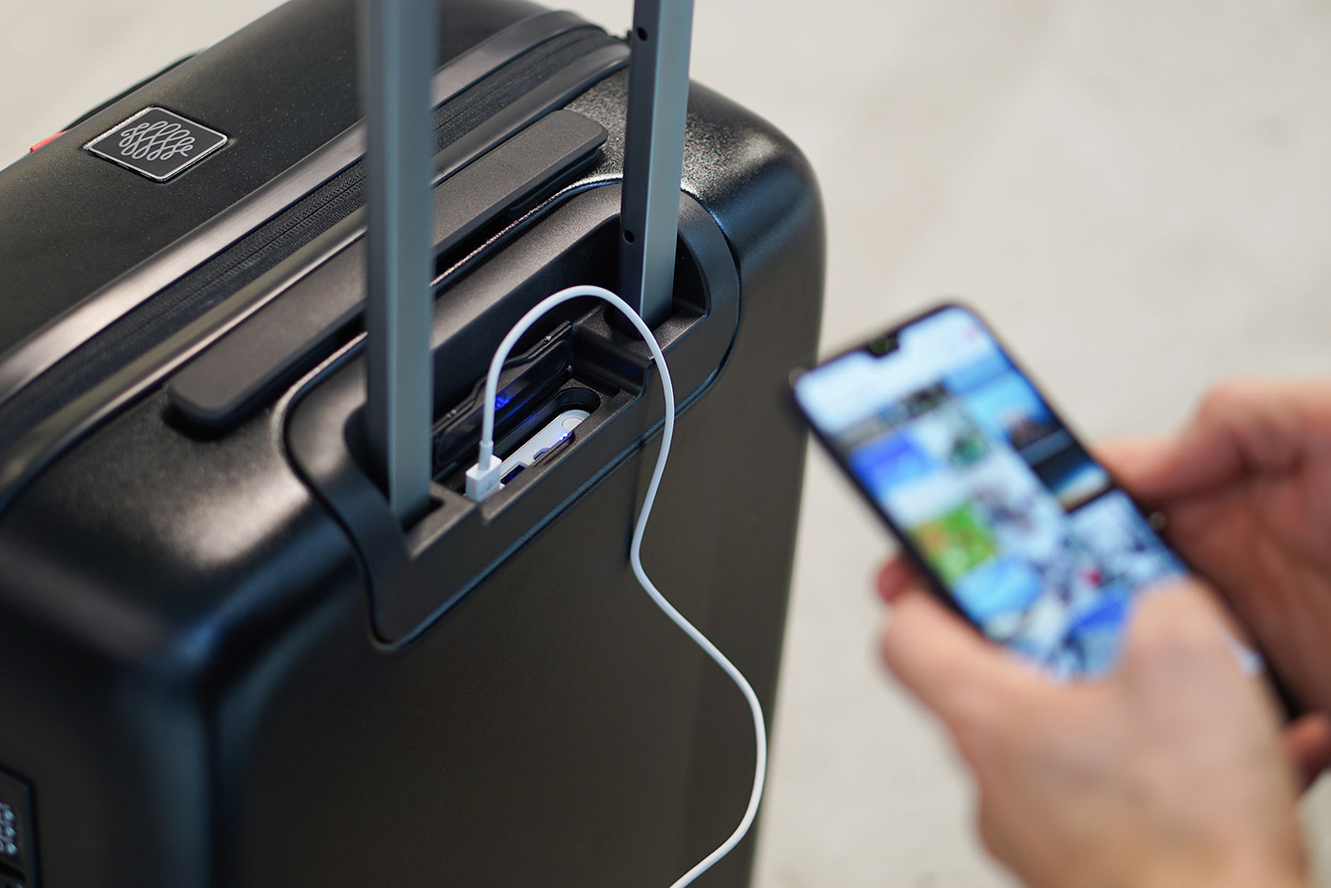box: (1, 1, 824, 888)
handle: (163, 109, 610, 435)
lock: (2, 770, 43, 888)
